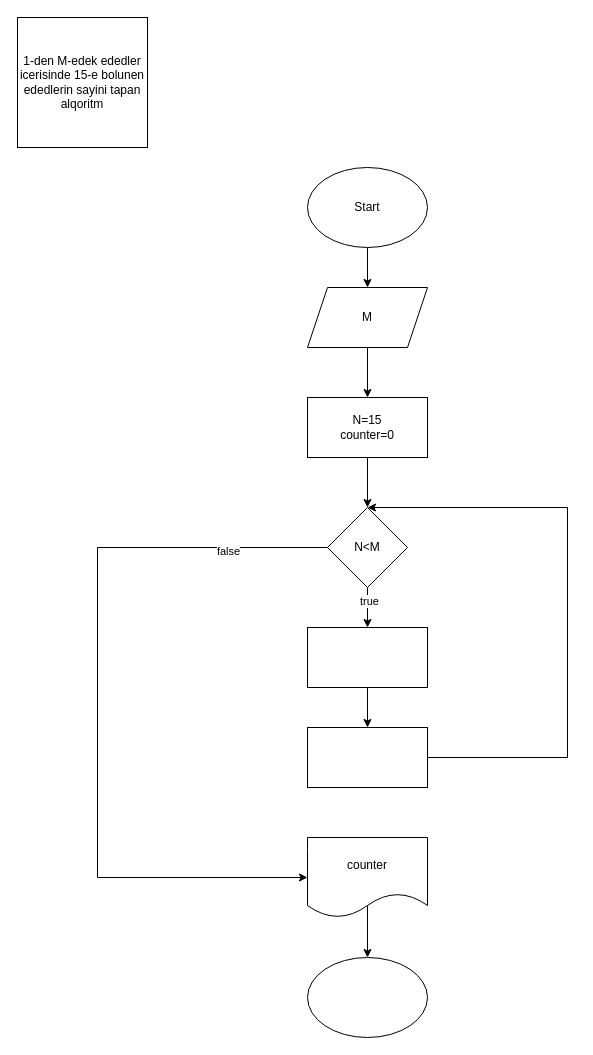
Some shapes in this 593 by 1055 pixel diagram are drawn without their labels. Each missing label, with the centre of its shape:
counter++: (x=367, y=657)
End: (x=367, y=997)
N+=15: (x=367, y=757)
